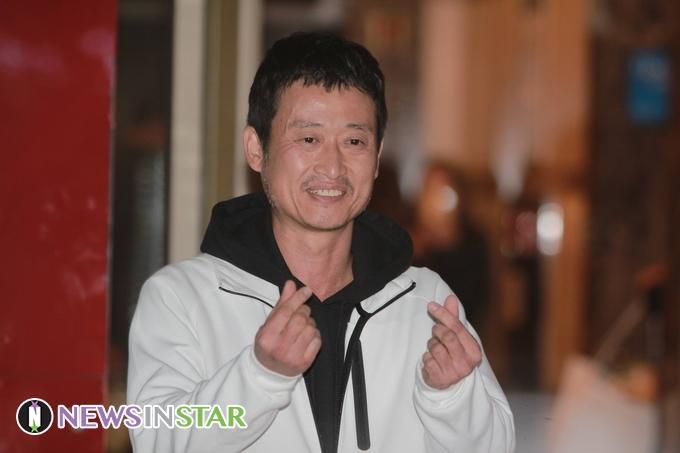heart gesture: (427, 292, 461, 321), (280, 278, 314, 306)
